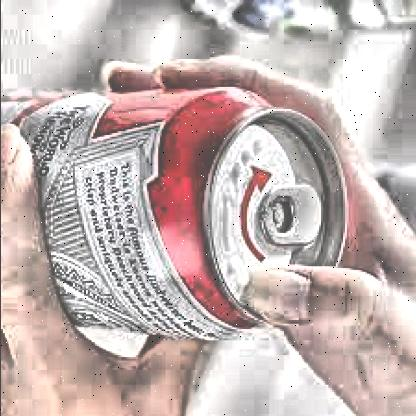Can: (0, 86, 352, 340)
